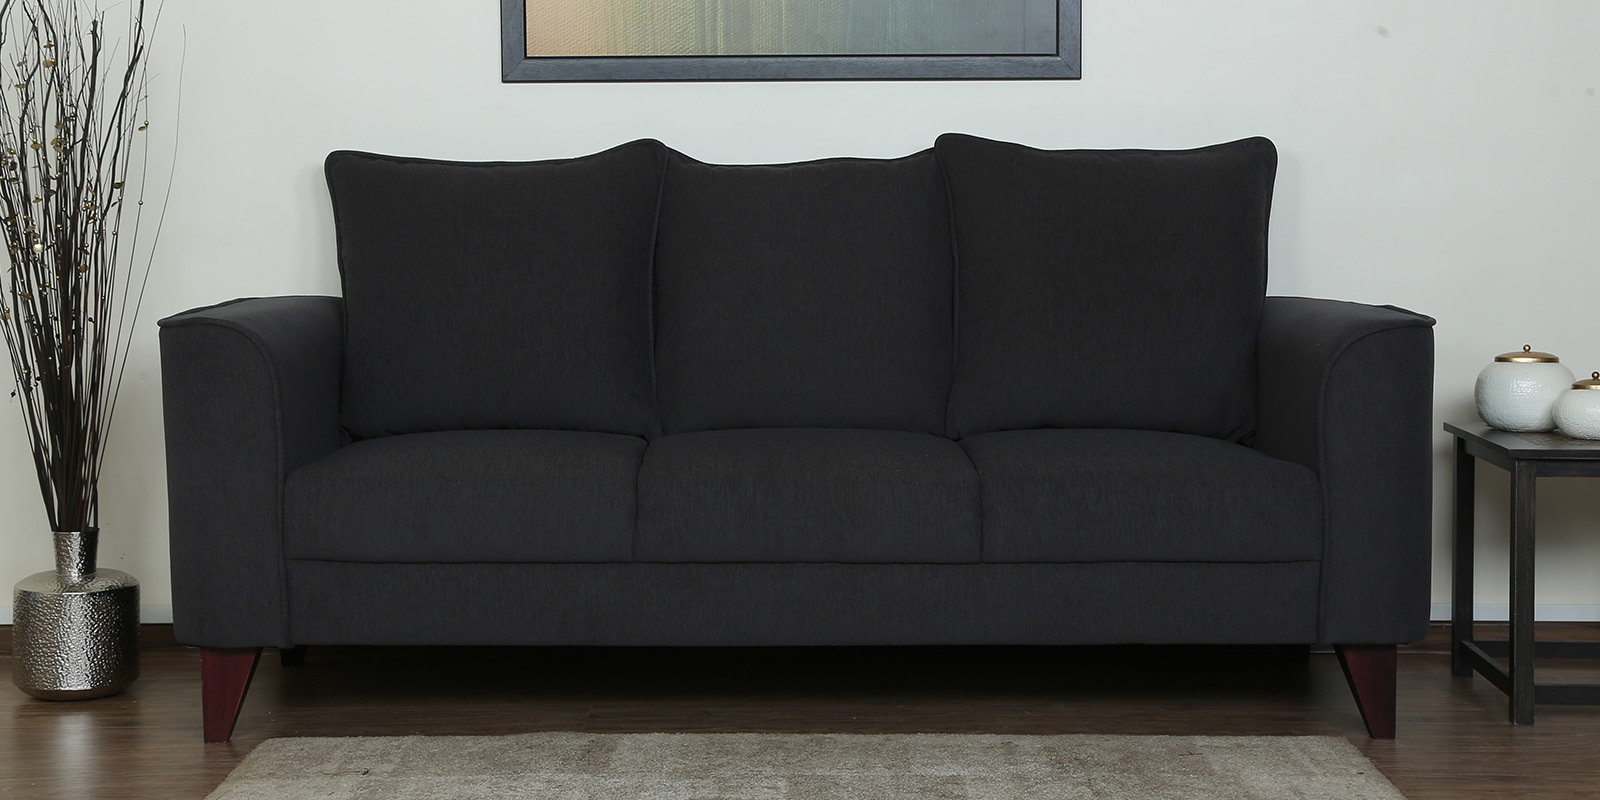Lara Three Seater Sofa in Charcoal Grey Colour by CasaCraft: (157, 129, 1436, 739)
